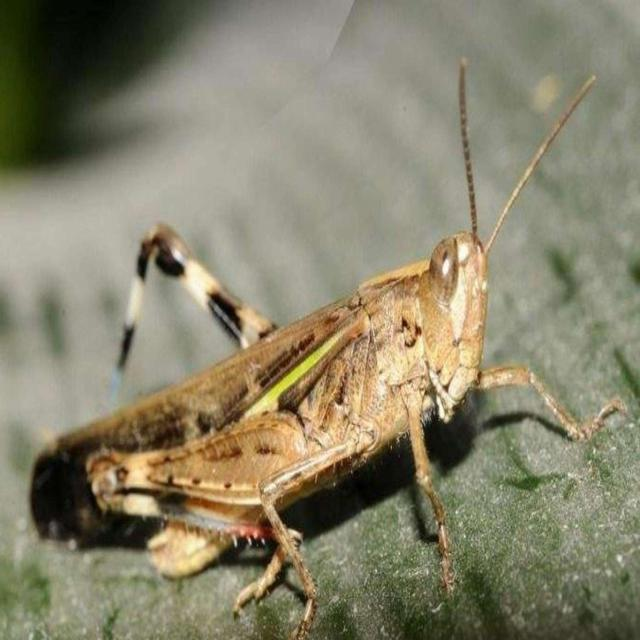ZhaMeng: (68, 53, 603, 608)
